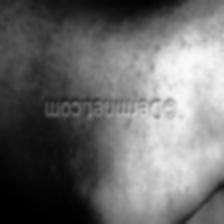Non-Cancerous Skin Condition: (162, 74, 174, 90), (184, 42, 188, 52), (182, 78, 186, 88), (194, 68, 198, 76), (190, 46, 194, 54), (189, 100, 193, 108)
